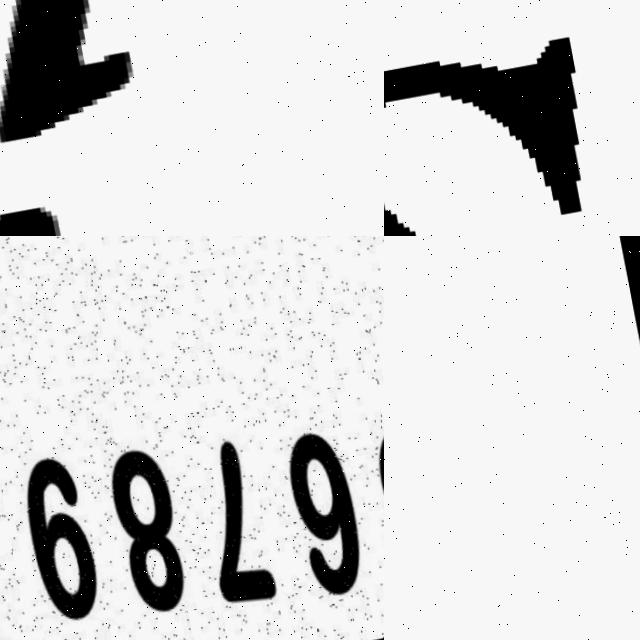5: (344, 396, 384, 617)
6: (255, 410, 384, 624)
7: (164, 412, 294, 619)
8: (81, 437, 218, 640)
9: (0, 438, 133, 640)
I: (0, 0, 260, 236)
J: (384, 236, 465, 640)
S: (384, 22, 640, 236)
